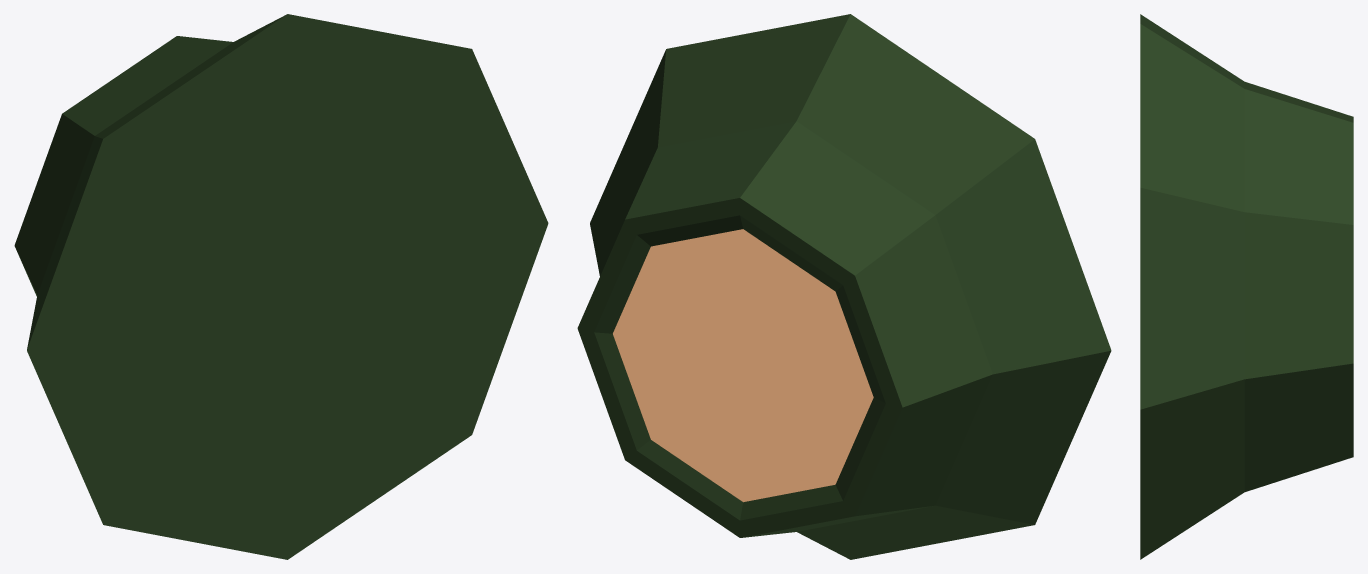
The model's file is TreeStump_2.fbx.
3 views of the same model, side by side, from view 1: azimuth 30°, elevation 25°; view 2: azimuth 150°, elevation 25°; view 3: azimuth 270°, elevation 25° (orthographic). The views are drawn at different scales.
Visible parts, largest first — view 1: TreeStump_2; view 2: TreeStump_2; view 3: TreeStump_2.
Part boxes in pixels (bbox=[...]): TreeStump_2: bbox=[14, 14, 548, 559]; TreeStump_2: bbox=[577, 14, 1111, 559]; TreeStump_2: bbox=[1140, 14, 1353, 559].
Size of the model in its own units: 89.42 by 89.42 by 32.85.
